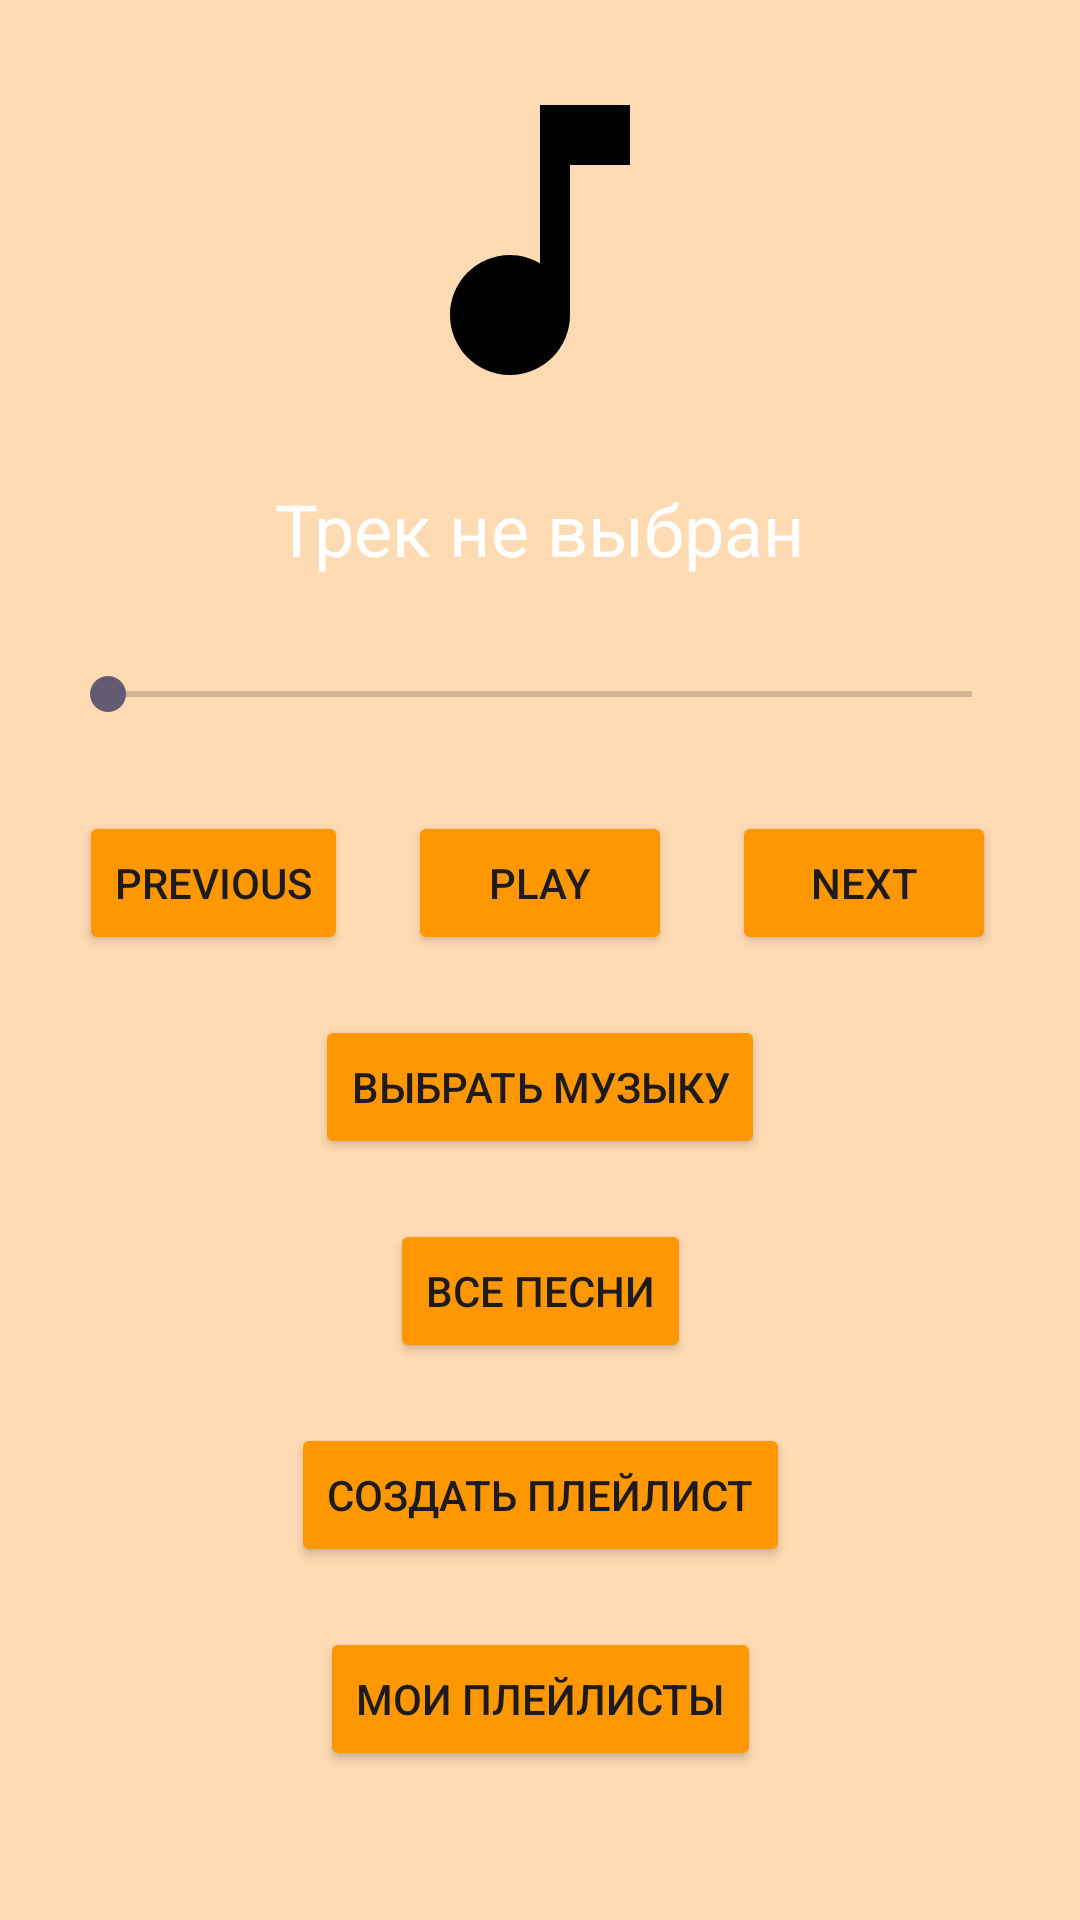

Icon click points for this 1080 × 1920 phone screenshot, format point (x, y):
music note: point (540, 240)
